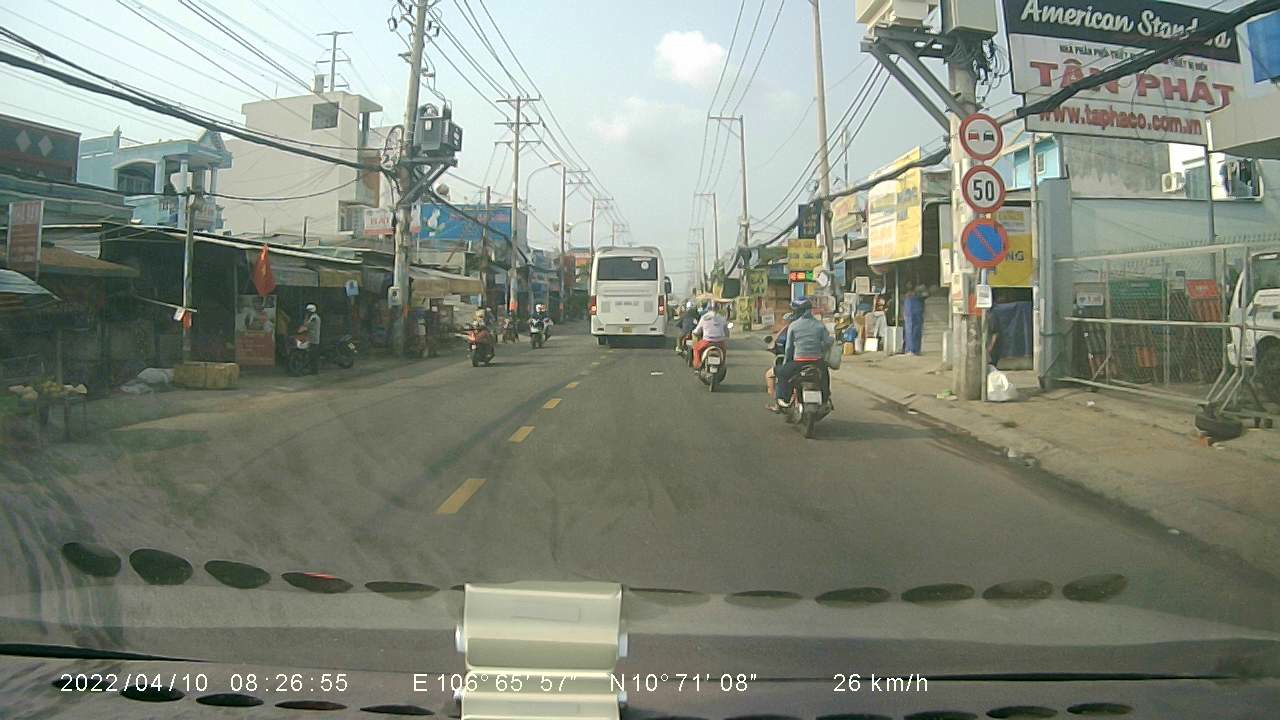Bien khac: (960, 164, 1011, 213), (958, 110, 1008, 159)
Cam do xe: (956, 214, 1014, 271)
